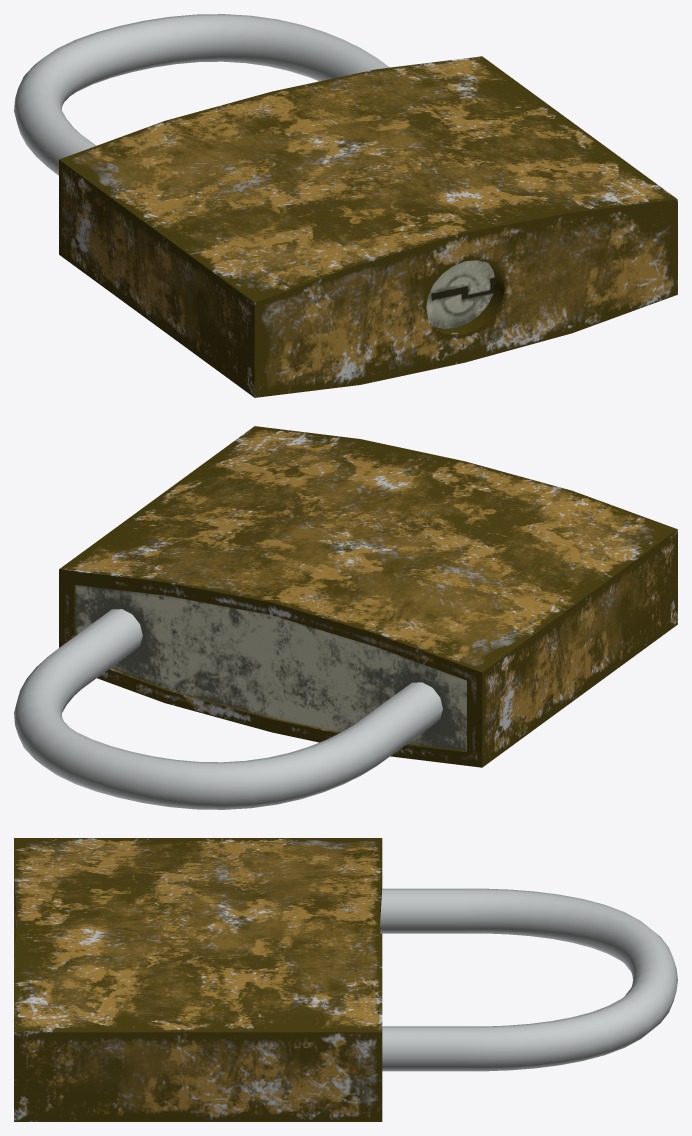
File: padlock.glb
3 views of the same model, one above another, from view 1: azimuth 30°, elevation 25°; view 2: azimuth 150°, elevation 25°; view 3: azimuth 270°, elevation 25° (orthographic). The views are drawn at different scales.
Visible parts, largest first — view 1: base_low, top_low; view 2: base_low, top_low; view 3: base_low, top_low.
Part boxes in pixels (<box>): base_low: <box>59,56,677,397</box>; top_low: <box>14,14,389,175</box>; base_low: <box>59,426,677,767</box>; top_low: <box>14,609,442,809</box>; base_low: <box>14,838,382,1121</box>; top_low: <box>380,888,677,1071</box>.
Size of the model in its own units: 0.3736 by 0.1096 by 0.5396.
Materials: 1 (1 with a texture image).
